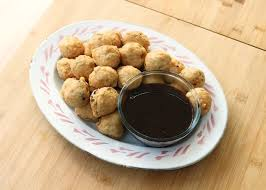Pempek adaan: (62, 76, 91, 106), (89, 86, 119, 115), (69, 54, 98, 81), (90, 62, 118, 89), (96, 112, 126, 136), (144, 49, 176, 71), (121, 40, 146, 68), (92, 44, 121, 68), (58, 35, 87, 59), (115, 63, 142, 88), (181, 68, 210, 90), (189, 89, 214, 114), (54, 57, 74, 79)
